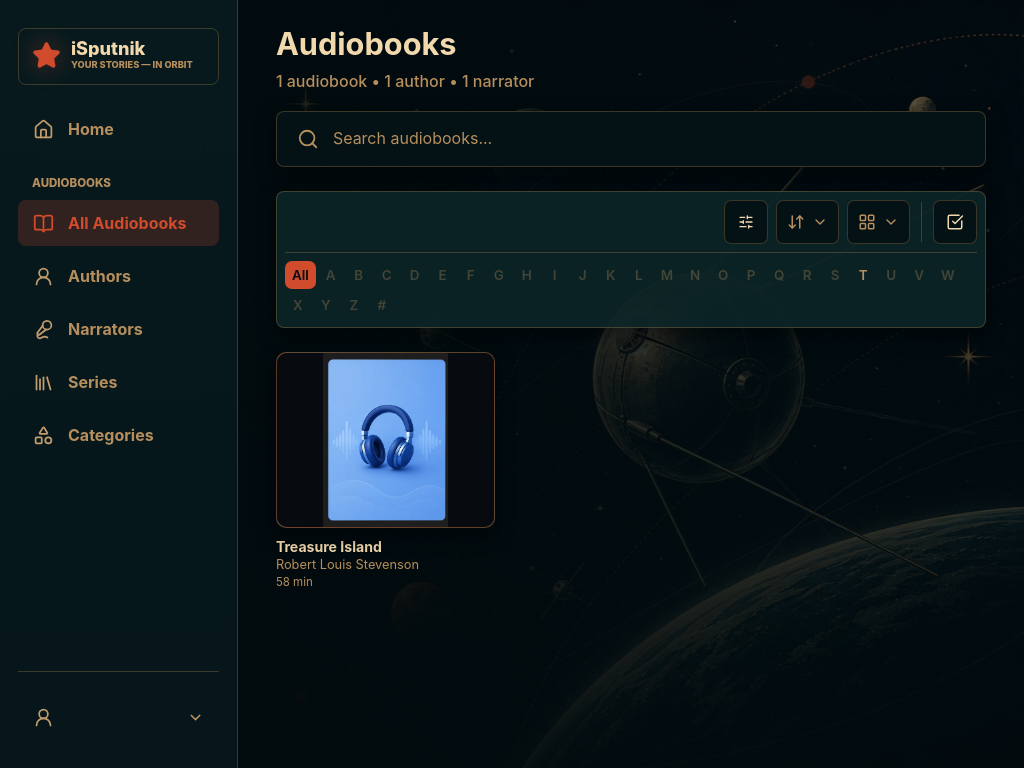
Test: CatalogPage › selects books and opens the bulk delete question
Click the 1st button named "Select". click: (955,222)
box: left=933, top=200, right=977, bottom=244
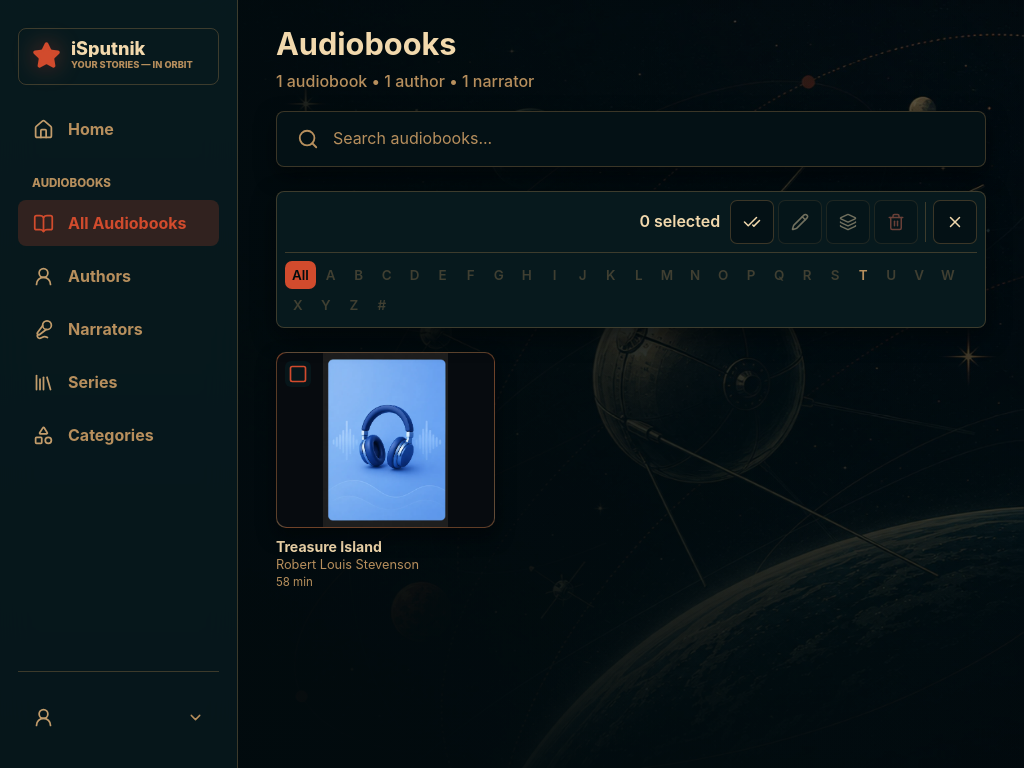
Click the button named "Select Treasure Island". click: (386,440)
box: left=276, top=352, right=495, bottom=528
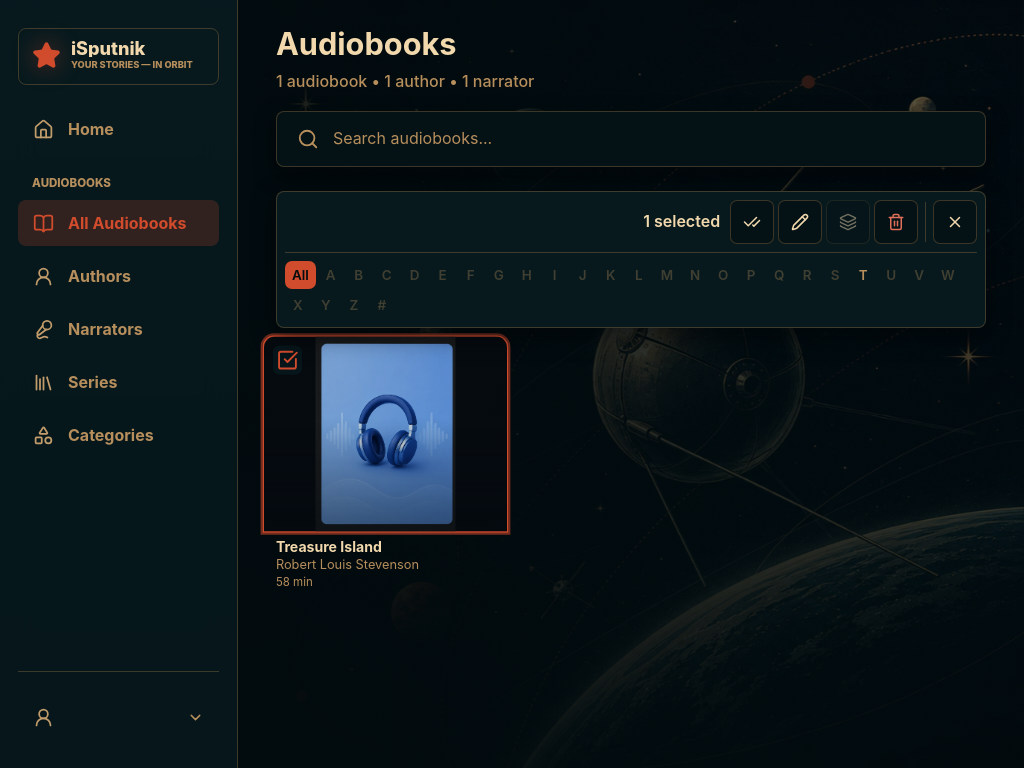
Now the text "1 selected" is shown, box left=643, top=210, right=720, bottom=233
Click the button titled "Move the selected books to the Recycle Bin". click: (896,222)
box: left=874, top=200, right=918, bottom=244
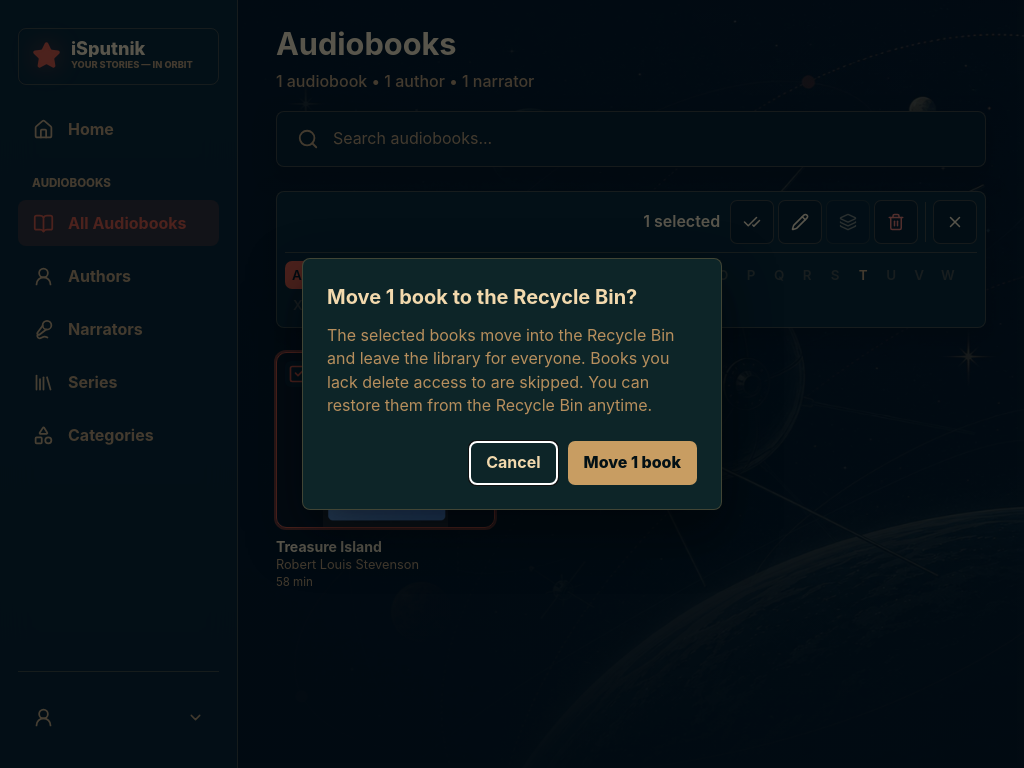
Now the button "Move 1 book" is shown, box left=568, top=441, right=697, bottom=485
